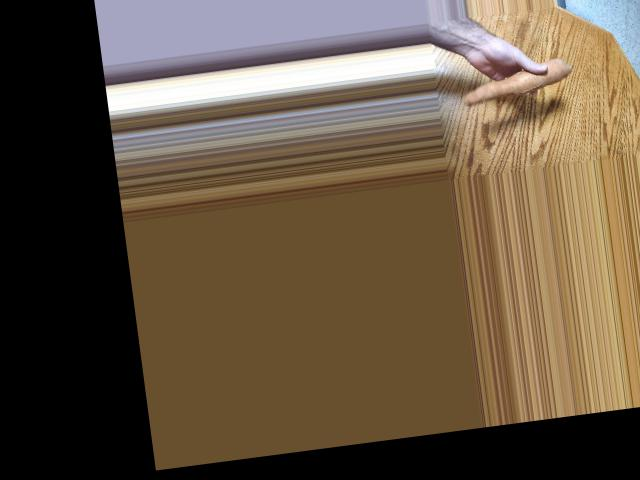sweet_potato: (461, 66, 571, 101)
